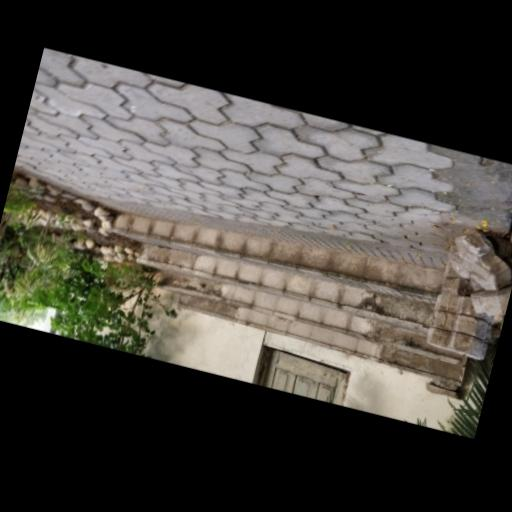stairs: (113, 213, 465, 384)
